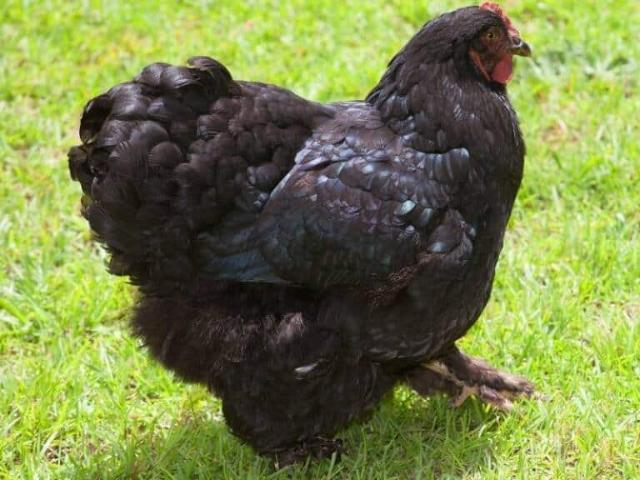Chicken: (64, 1, 537, 468)
